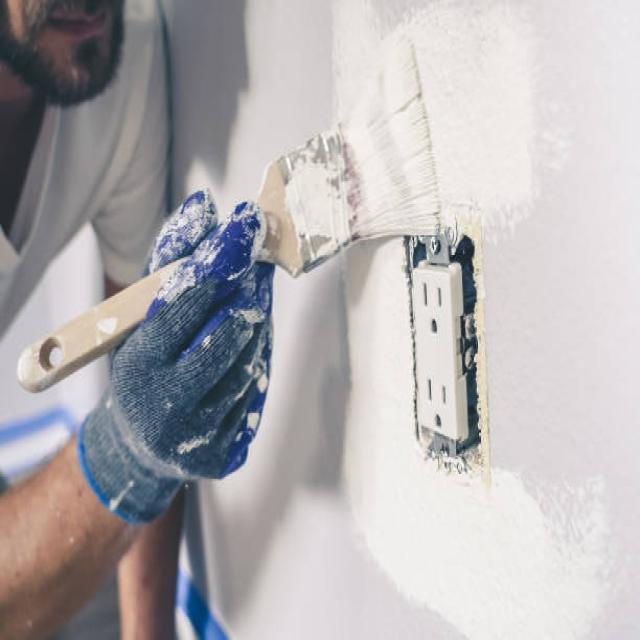gloves: (74, 188, 276, 523)
